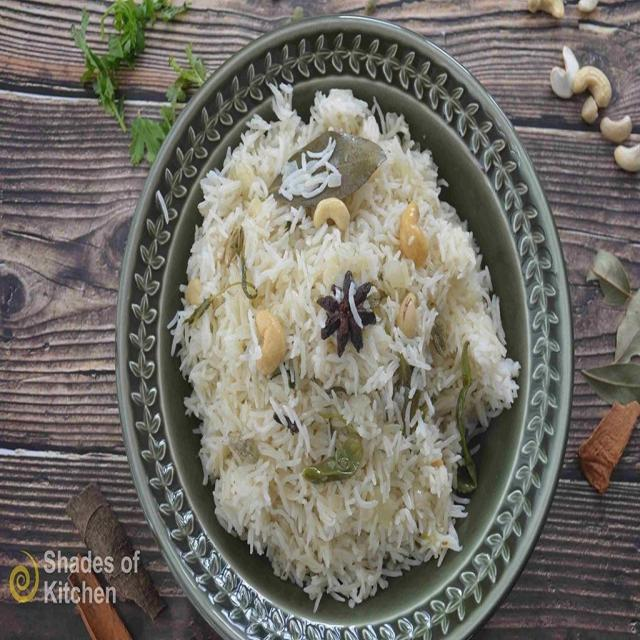nei satham: (187, 93, 515, 594)
